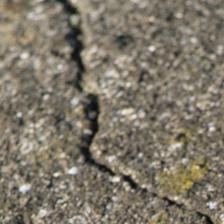Crack: (30, 2, 181, 221)
